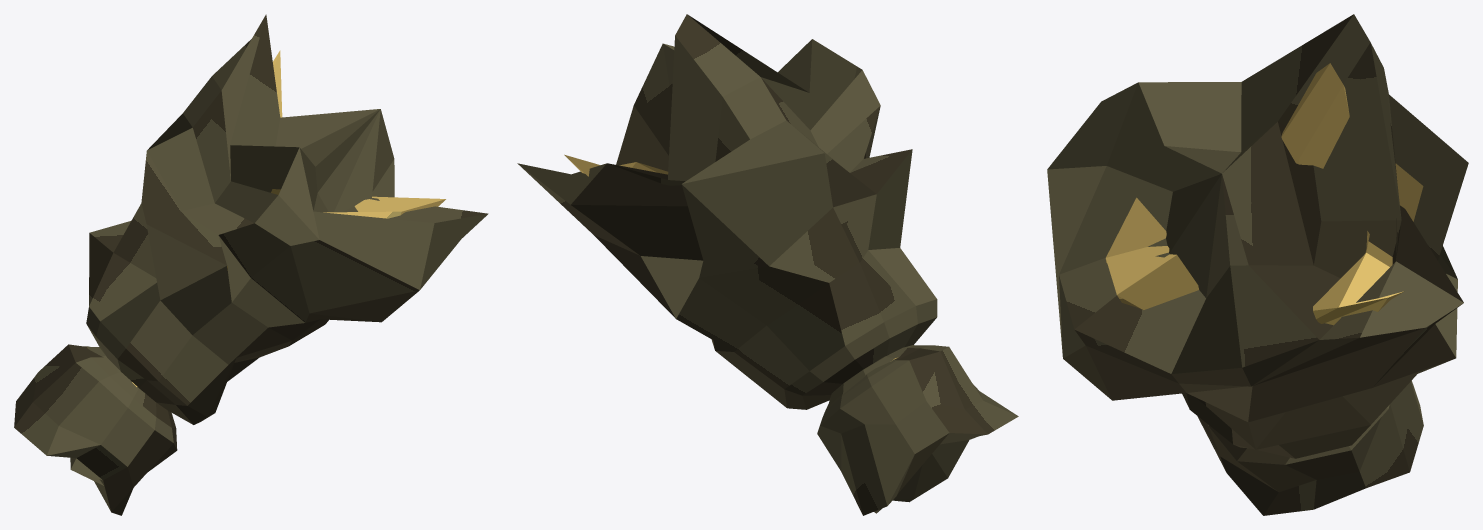
Rendered from cropressed_wheat.obj.
The picture shows the model from 3 angles, left to right: view 1: azimuth 30°, elevation 25°; view 2: azimuth 150°, elevation 25°; view 3: azimuth 270°, elevation 25°; orthographic projection. The views are drawn at different scales.
Parts seen in each view (by area): view 1: cylinder; view 2: cylinder; view 3: cylinder.
Part boxes in pixels (x1,y1,x2,y2): cylinder: [14, 14, 488, 515]; cylinder: [517, 14, 1018, 515]; cylinder: [1047, 14, 1468, 515].
Bounding box in the file's own units: 0.9448 × 0.9835 × 0.6011.
